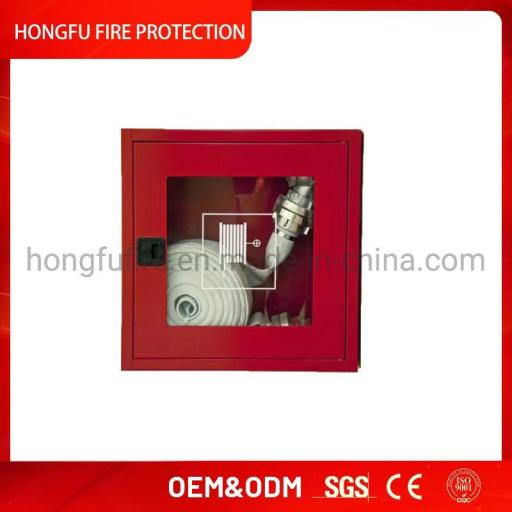fire_hose: (109, 119, 369, 380)
